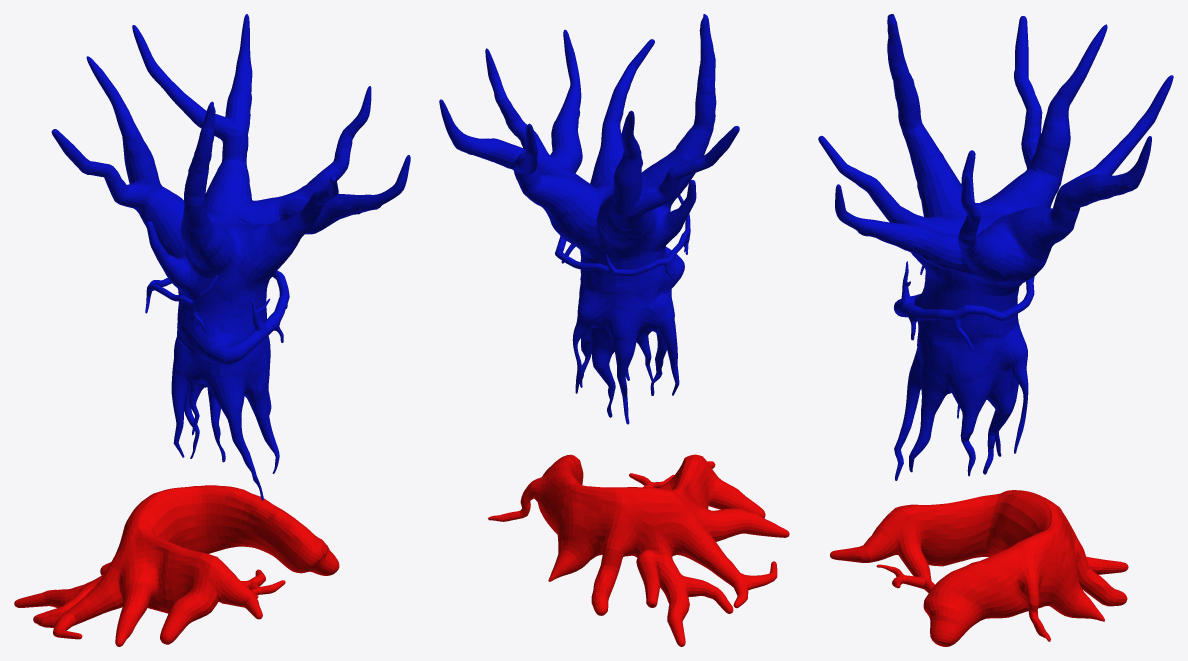
File: tree of life_full.fbx
The picture shows the model from 3 angles, left to right: view 1: azimuth 30°, elevation 25°; view 2: azimuth 150°, elevation 25°; view 3: azimuth 270°, elevation 25°; orthographic projection. The views are drawn at different scales.
Visible parts, largest first — view 1: Group62257; view 2: Group62257; view 3: Group62257.
Boxes of the visible parts, x1,y1,x2,y2 form: Group62257: [14, 14, 410, 646]; Group62257: [439, 14, 789, 646]; Group62257: [818, 14, 1173, 646].
Bounding box in the file's own units: 795 × 1379 × 738.
